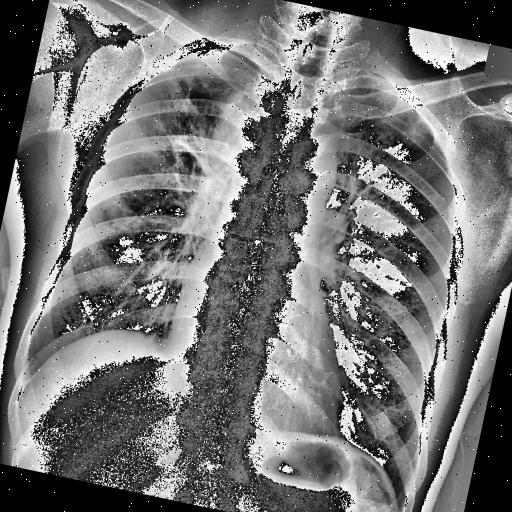0- Aortic enlargement: (272, 123, 346, 218)
11- Pleural thickening: (208, 36, 292, 100), (210, 72, 270, 156), (399, 108, 439, 149)
13- Pulmonary fibrosis: (138, 63, 260, 207), (133, 71, 253, 180), (147, 59, 234, 176), (401, 112, 438, 150)
6- Infiltration: (138, 63, 260, 207), (398, 114, 430, 152)
7- Lung Opacity: (399, 108, 439, 149)
